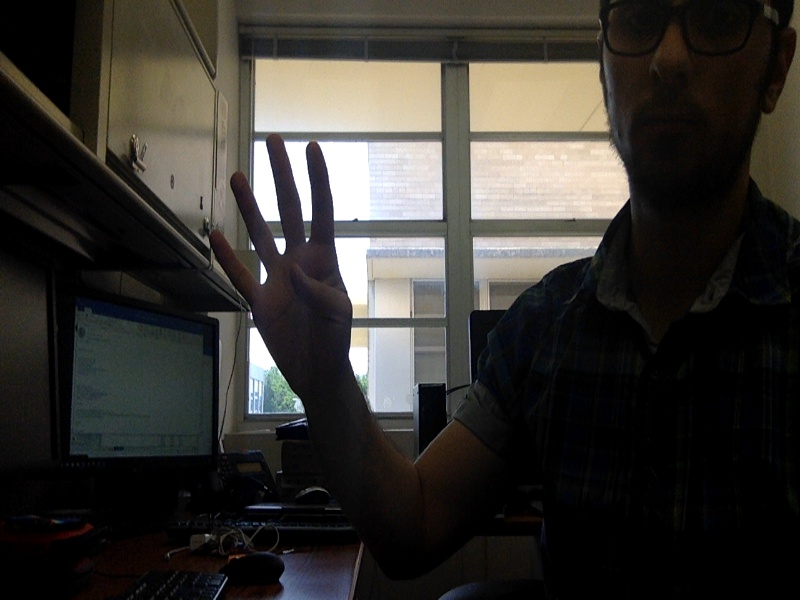4-hand: (216, 133, 361, 390)
